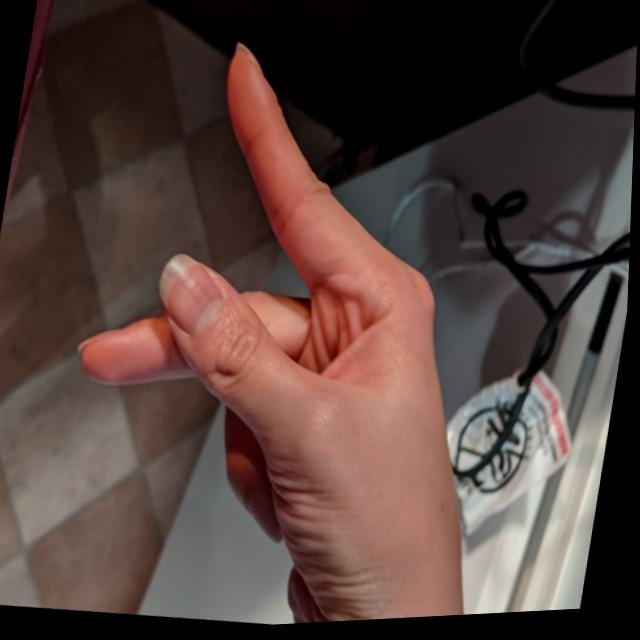P: (31, 10, 558, 637)
